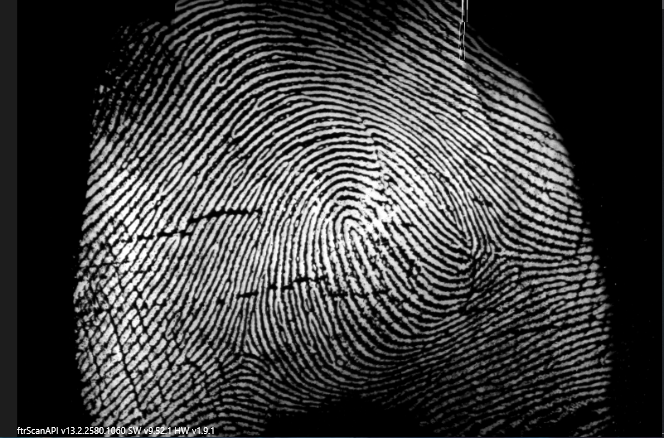deltas: (469, 220, 519, 274), (218, 324, 263, 373)
nucleo: (320, 194, 397, 276)
